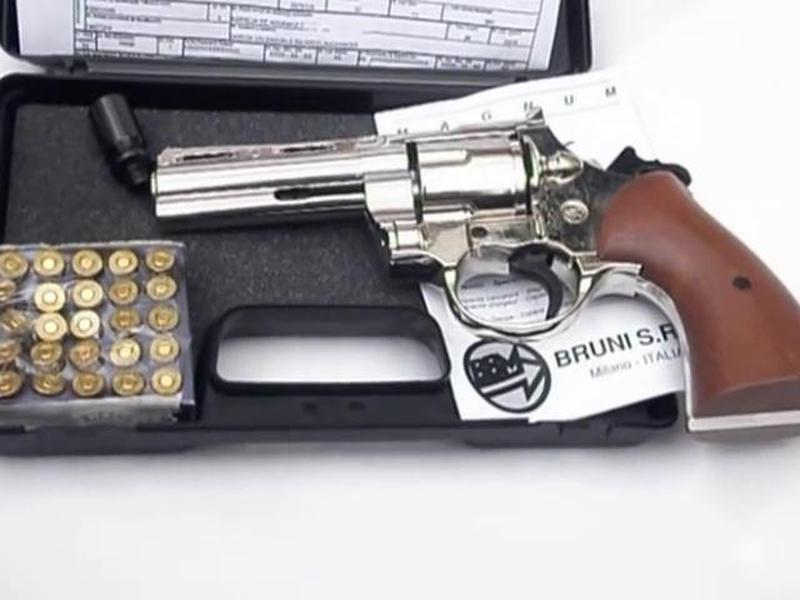Revolver: (147, 136, 799, 358)
